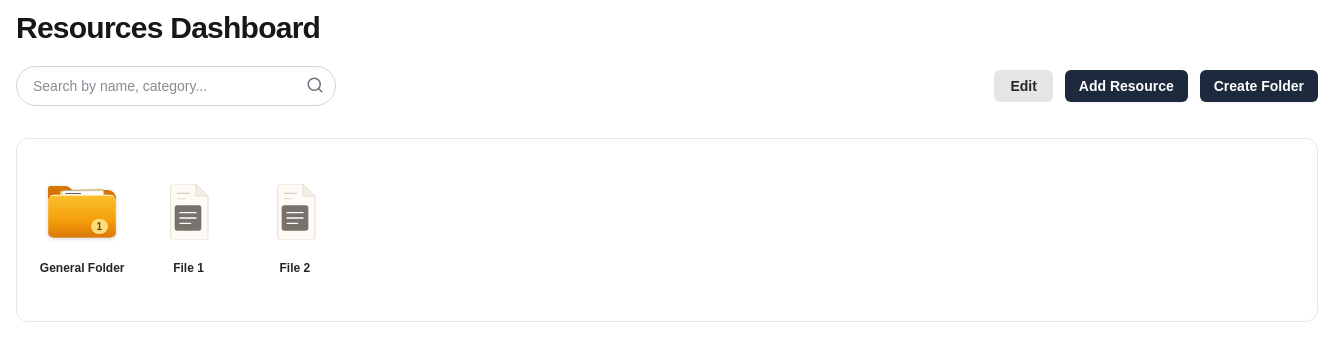
Test case: ResourcesPageContent › displays empty state when search matches nothing
Step 1. Type "NonExistentMatchXYZ" into the field with placeholder "Search by name, category..." → (176, 86), box [16, 66, 336, 106]
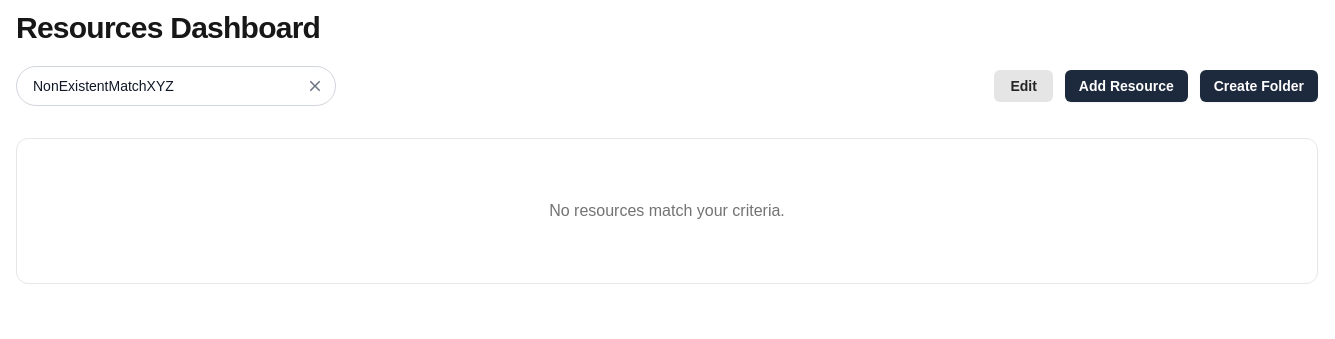
Result: the text "No resources match your criteria." is shown at [549, 202, 785, 219]
